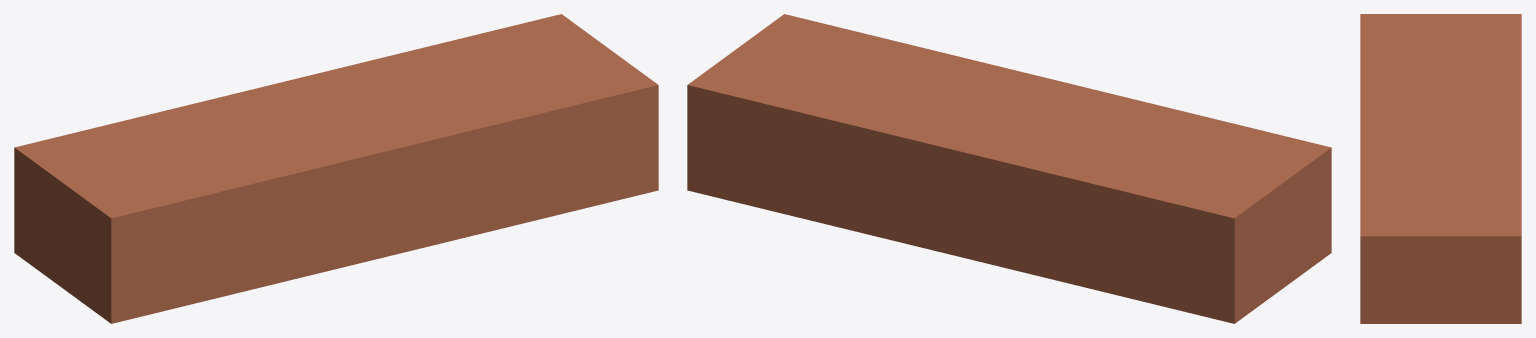
The model's file is tablet.glb.
3 renders of one model, left to right at view 1: azimuth 30°, elevation 25°; view 2: azimuth 150°, elevation 25°; view 3: azimuth 270°, elevation 25°, orthographic. The views are drawn at different scales.
Visible parts, largest first — view 1: Tablet; view 2: Tablet; view 3: Tablet.
Boxes of the visible parts, bbox=[...] form: Tablet: bbox=[14, 14, 658, 323]; Tablet: bbox=[687, 14, 1331, 323]; Tablet: bbox=[1360, 14, 1521, 323].
Size of the model in its own units: 1.8 by 0.3313 by 0.5518.
Materials: 1 (1 with a texture image).
